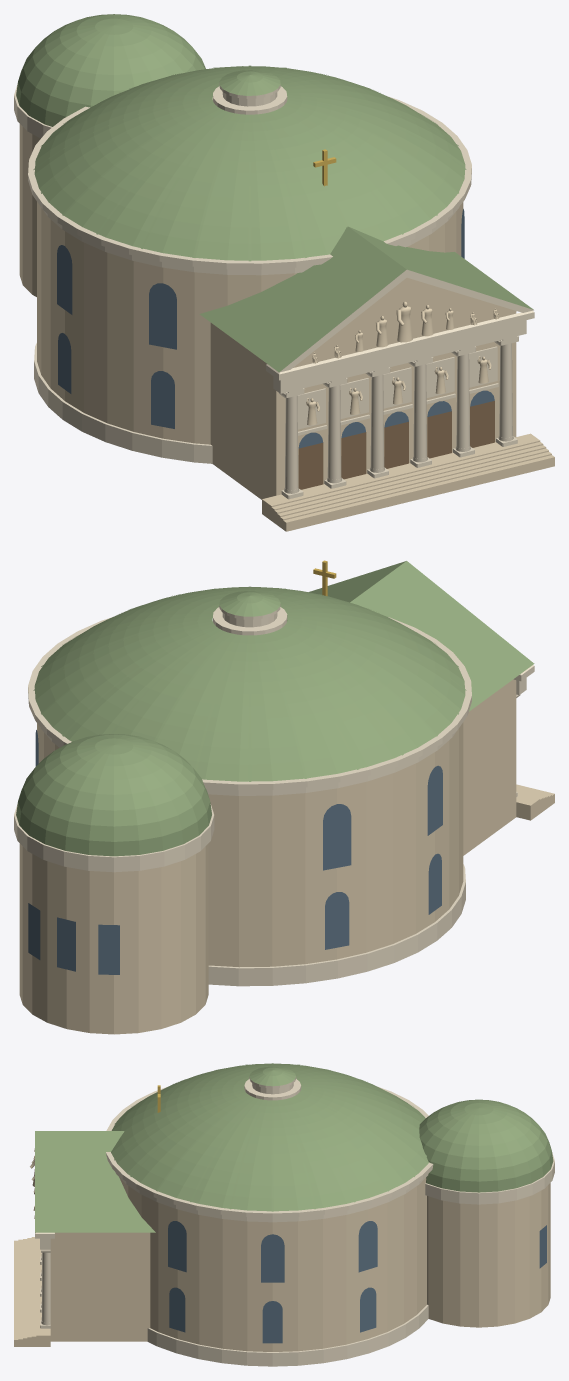
The model's file is berlin-st-hedwigs.detail.glb.
3 views of the same model, one above another, from view 1: azimuth 30°, elevation 25°; view 2: azimuth 150°, elevation 25°; view 3: azimuth 270°, elevation 25° (orthographic). The views are drawn at different scales.
Parts seen in each view (by area): view 1: St. Hedwig's Cathedral; view 2: St. Hedwig's Cathedral; view 3: St. Hedwig's Cathedral.
Part boxes in pixels (box(x1,y1,x2,y2)): St. Hedwig's Cathedral: box(14, 14, 554, 531); St. Hedwig's Cathedral: box(14, 560, 554, 1034); St. Hedwig's Cathedral: box(14, 1063, 554, 1366).
Size of the model in its own units: 40.4 by 30 by 64.8.
